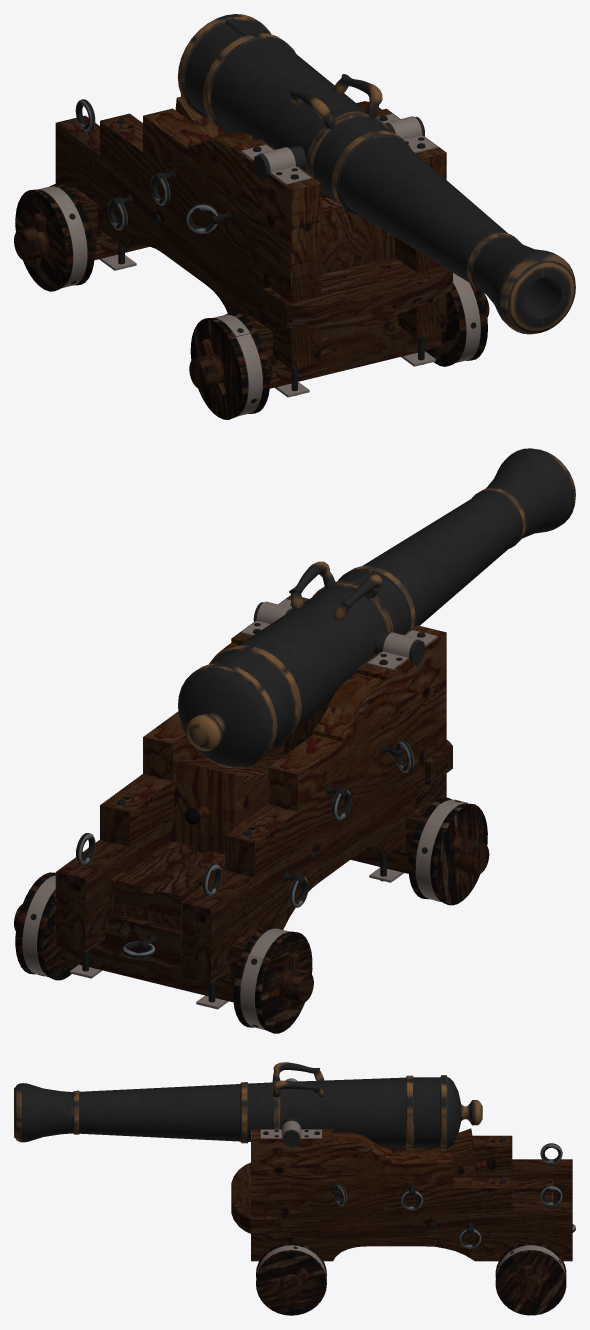
The model's file is OldShipCannon.obj.
The picture shows the model from 3 angles, top to bottom: view 1: azimuth 30°, elevation 25°; view 2: azimuth 150°, elevation 25°; view 3: azimuth 270°, elevation 25°; orthographic projection. The views are drawn at different scales.
Parts seen in each view (by area): view 1: Gun_Cylinder; view 2: Gun_Cylinder; view 3: Gun_Cylinder.
Part boxes in pixels (box(x1,y1,x2,y2)): Gun_Cylinder: box(14, 14, 575, 419); Gun_Cylinder: box(14, 448, 575, 1033); Gun_Cylinder: box(14, 1062, 575, 1315).
Size of the model in its own units: 1.47 by 1.47 by 3.67.
1 material, 1 textured.
